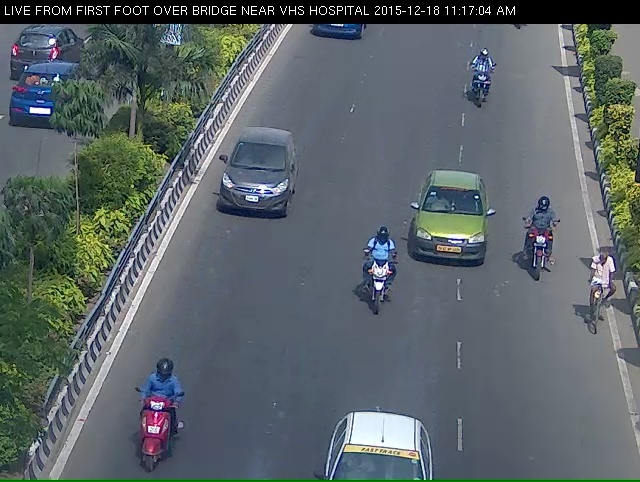Car: (407, 176, 484, 278), (212, 135, 288, 227), (316, 431, 439, 481)
Person: (126, 380, 172, 474), (523, 204, 562, 300), (358, 239, 394, 328), (468, 49, 498, 113)
